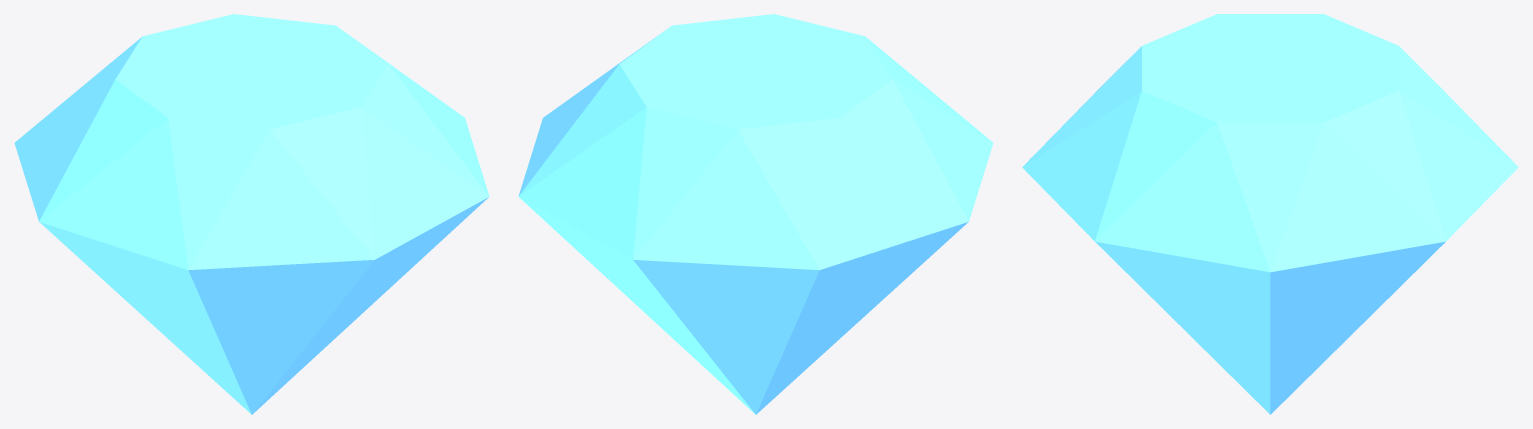
File: gem_v3.glb
The picture shows the model from 3 angles, left to right: view 1: azimuth 30°, elevation 25°; view 2: azimuth 150°, elevation 25°; view 3: azimuth 270°, elevation 25°; orthographic projection.
Visible parts, largest first — view 1: Gem; view 2: Gem; view 3: Gem.
Part boxes in pixels (bbox=[...]): Gem: bbox=[14, 14, 489, 414]; Gem: bbox=[518, 14, 993, 414]; Gem: bbox=[1022, 14, 1518, 414].
Size of the model in its own units: 1 by 0.77 by 1.
